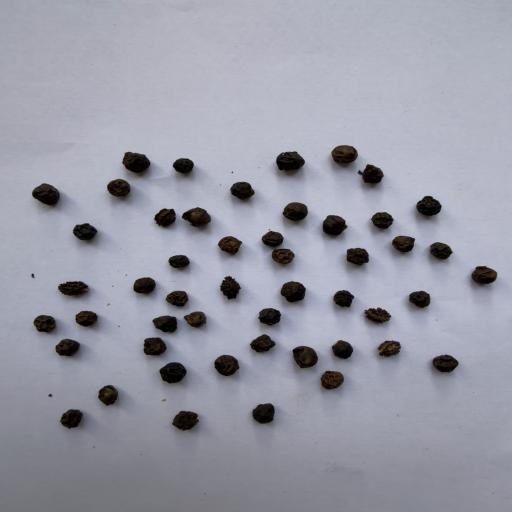Black_pepper: (6, 176, 70, 206), (238, 394, 280, 431), (398, 188, 453, 214), (181, 200, 226, 228), (468, 254, 500, 293), (64, 213, 104, 243), (414, 230, 450, 263), (270, 266, 307, 298), (421, 347, 460, 377), (278, 335, 317, 364), (166, 402, 203, 432), (158, 146, 194, 176), (333, 238, 369, 268), (349, 161, 390, 187), (87, 376, 127, 402), (267, 142, 301, 172), (96, 175, 130, 204), (112, 146, 149, 172), (43, 332, 85, 354), (266, 194, 304, 218), (396, 283, 433, 307), (202, 346, 236, 372), (320, 138, 356, 162), (46, 402, 82, 426), (205, 232, 244, 254), (315, 282, 354, 304), (151, 355, 185, 380), (214, 175, 254, 196), (259, 245, 303, 264), (324, 330, 356, 356), (153, 282, 189, 305), (22, 308, 56, 332), (256, 224, 290, 246), (314, 209, 346, 232), (248, 300, 278, 324), (144, 306, 175, 329), (313, 366, 343, 389), (367, 203, 393, 229), (136, 330, 162, 354), (71, 302, 99, 324), (242, 330, 271, 350), (383, 234, 412, 253), (183, 310, 212, 328), (130, 274, 156, 293), (164, 252, 188, 269)
papaya_seed: (42, 270, 95, 298), (208, 263, 248, 300), (364, 334, 404, 356), (358, 304, 397, 325), (150, 199, 178, 228)
